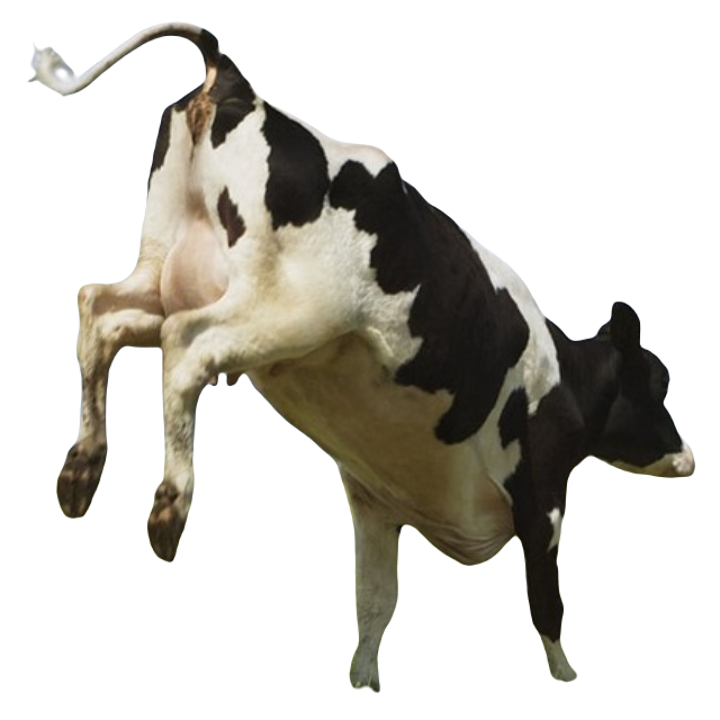Cow: (26, 20, 696, 691)
